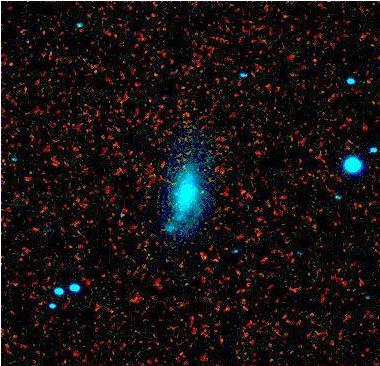star: (188, 178, 218, 208)
